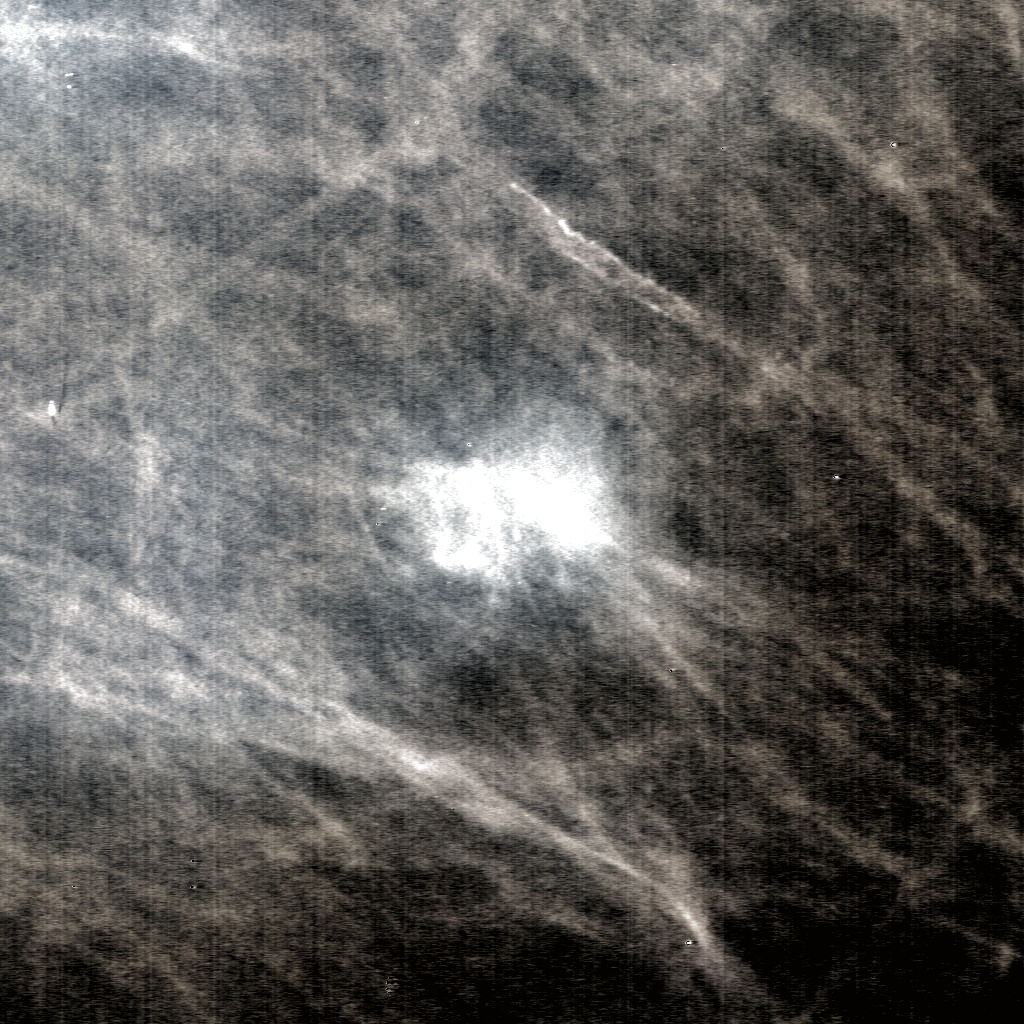tumor: (363, 391, 661, 633)
